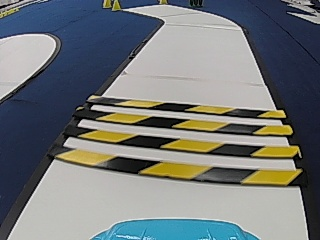bump: (50, 90, 304, 195)
